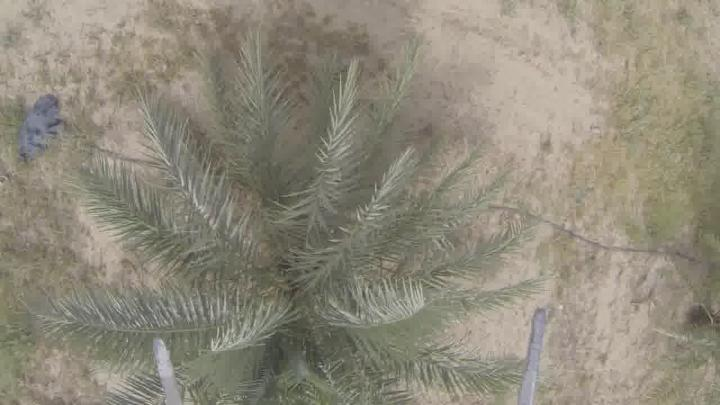Date-Palm-Crown: (129, 123, 433, 405), (680, 245, 720, 405)
